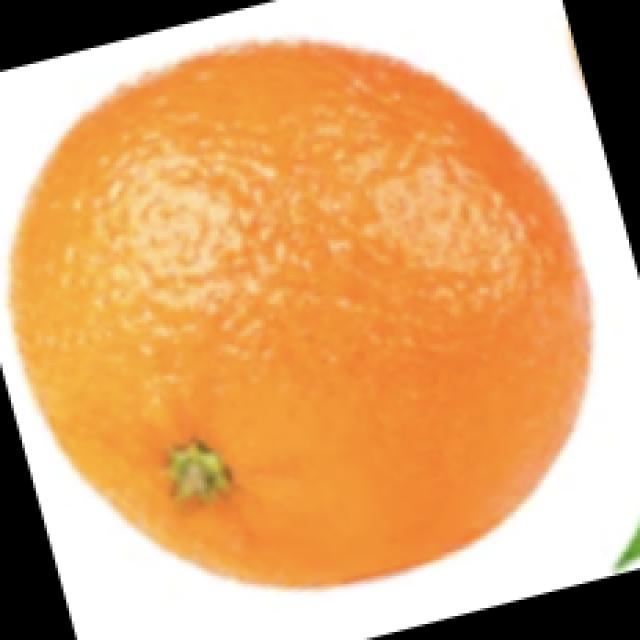matang: (11, 43, 590, 584)
